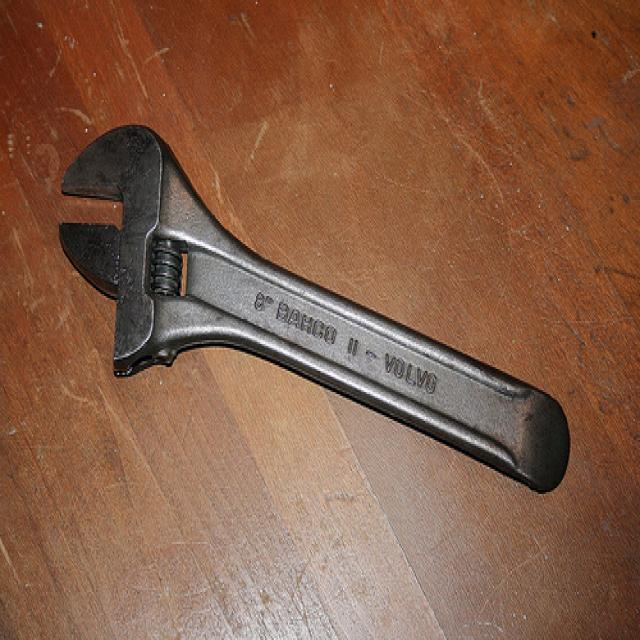wrench: (55, 117, 573, 496)
